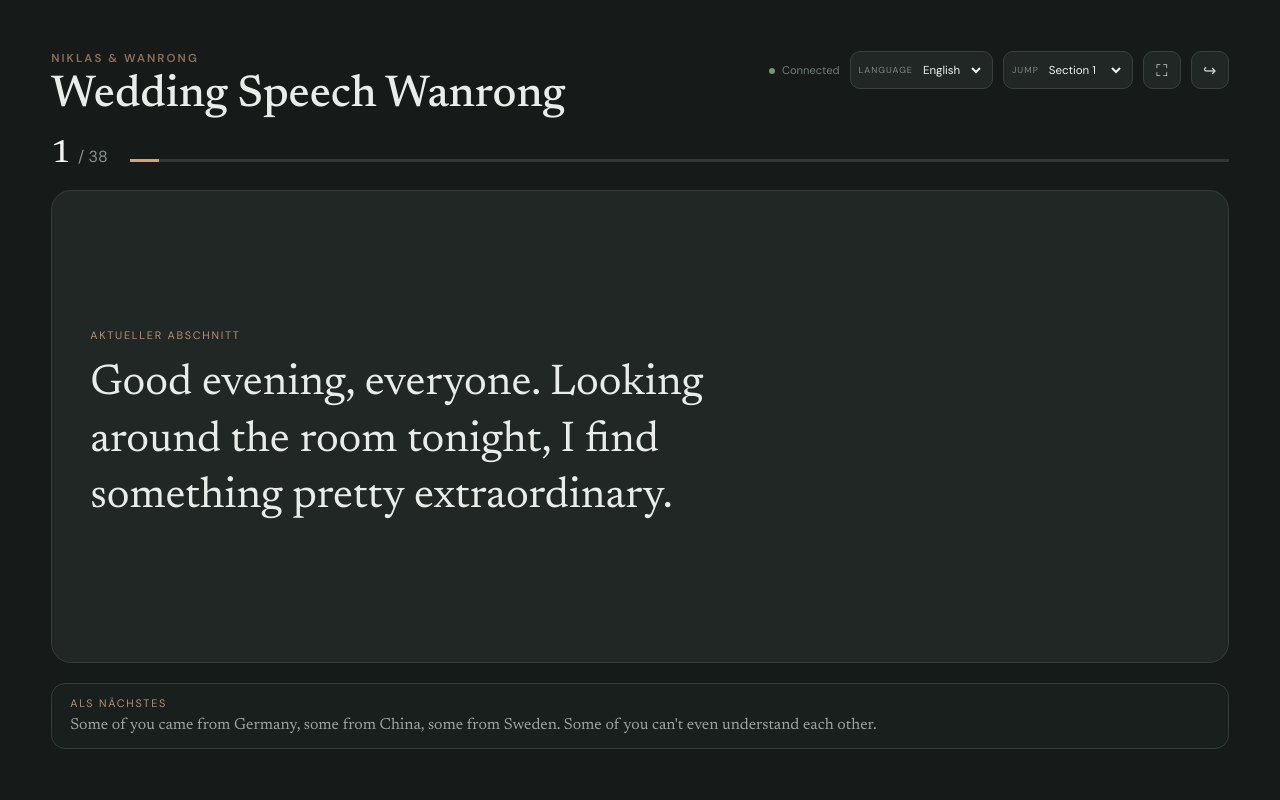
Test: live wedding speech › lets the presenter select German, English, or Chinese speech text
Expected: the text "Good evening, everyone" is shown, [90,362,703,518]
Expected: the text "Some of you came from Germany" is shown, [70,717,877,733]
Select "Deutsch" in the dropdown named "Presenter language" at (951, 70), box [919,62,984,79]
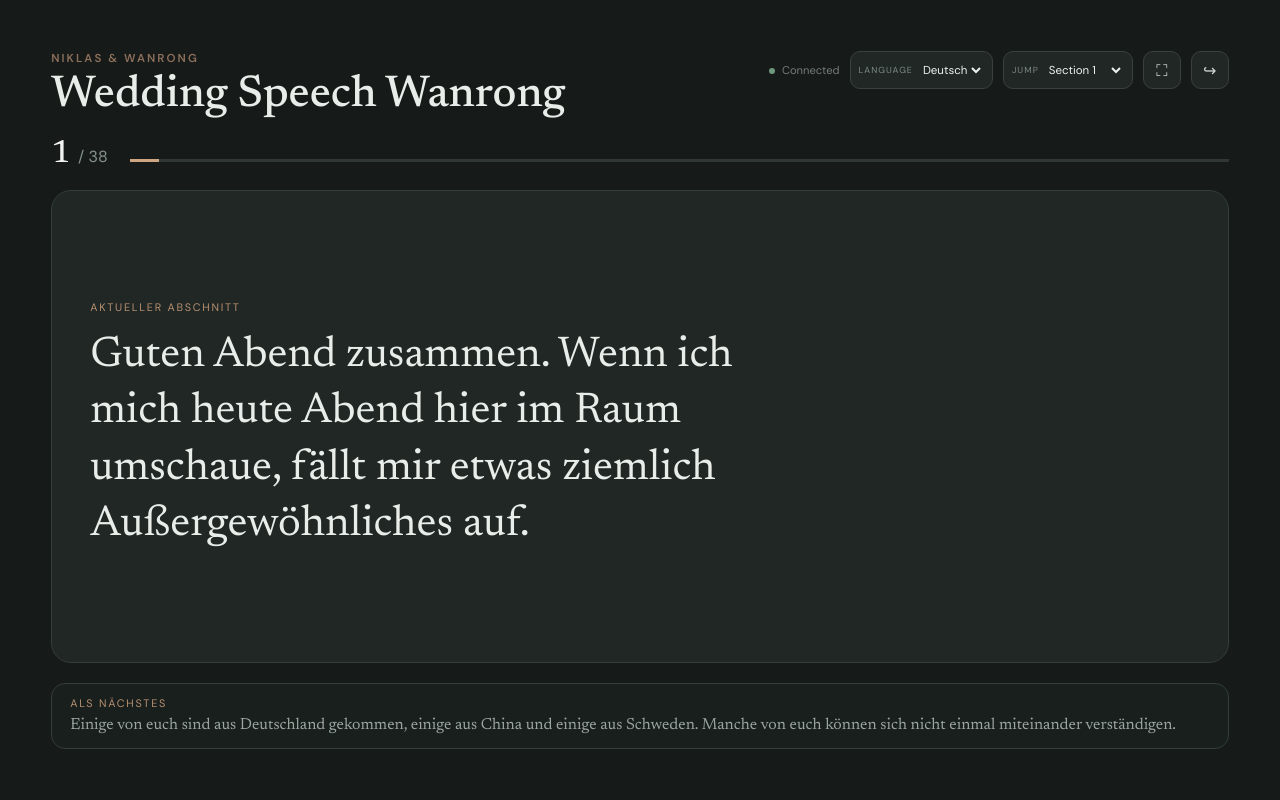
Result: the text "Guten Abend zusammen" is shown at [90,334,732,546]
Result: the text "Einige von euch sind aus Deutschland gekommen" is shown at [70,717,1176,733]
Select "中文" in the dropdown named "Presenter language" at (951, 70), box [919,62,984,79]
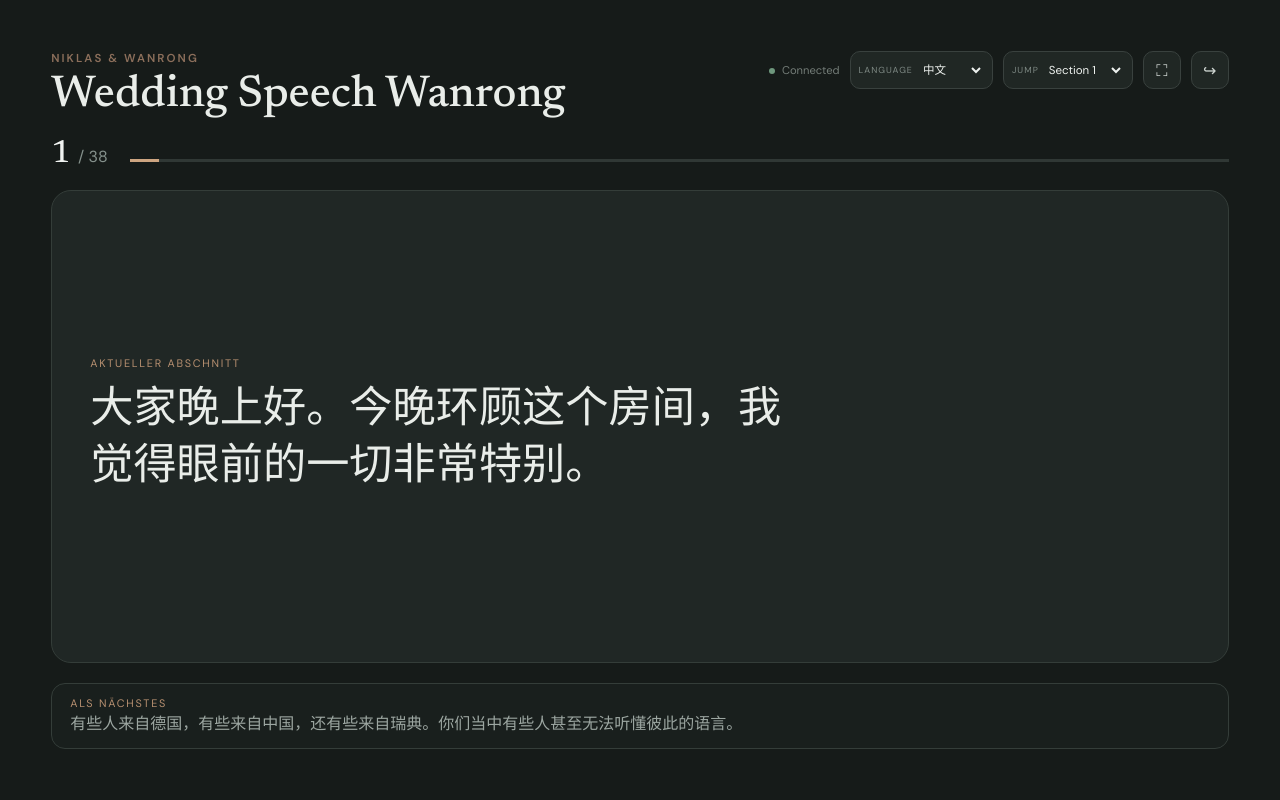
Result: the text "大家晚上好。今晚环顾这个房间，我觉得眼前的一切非常特别。" is shown at [90,384,824,497]
Result: the text "有些人来自德国，有些来自中国，还有些来自瑞典。你们当中有些人甚至无法听懂彼此的语言。" is shown at [70,717,742,733]
